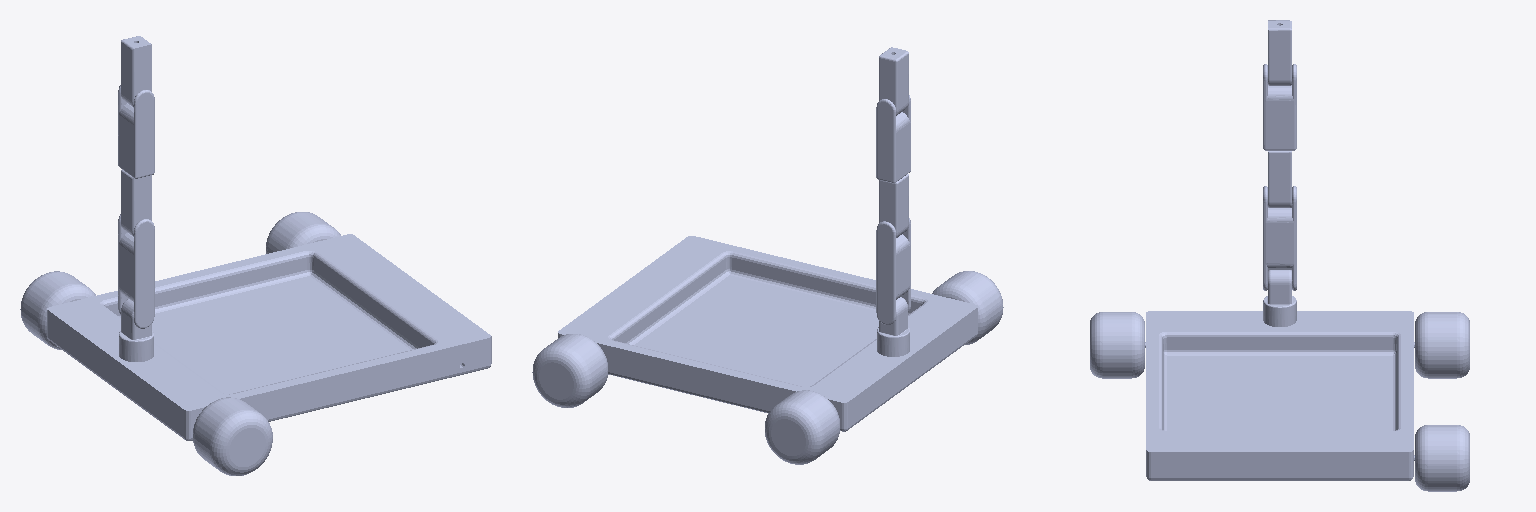
The robot description file, URDF, robot "Car_1":
<?xml version="1.0" encoding="utf-8"?>
<!-- This URDF was automatically created by SolidWorks to URDF Exporter! Originally created by [author] ([email redacted]) 
     Commit Version: 1.6.0-1-g15f4949  Build Version: 1.6.7594.29634
     For more information, please see http://wiki.ros.org/sw_urdf_exporter -->
<robot
  name="Car_1">
  <link name="Dummy"/>
  <link
    name="Chassis">
    <inertial>
      <origin
        xyz="9.85359198453595E-05 -0.016463414418635 -1.61805565512309E-16"
        rpy="0 0 0" />
      <mass
        value="161.904412309527" />
      <inertia
        ixx="22.6226623674723"
        ixy="-0.00106031744847904"
        ixz="1.94916551280363E-15"
        iyy="63.2906242505968"
        iyz="1.17745429693053E-15"
        izz="41.2716349546351" />
    </inertial>
    <visual>
      <origin
        xyz="0 0 0"
        rpy="0 0 0" />
      <geometry>
        <mesh
          filename="package://Car_1/meshes/Chassis.STL" />
      </geometry>
      <material
        name="">
        <color
          rgba="0.792156862745098 0.819607843137255 0.933333333333333 1" />
      </material>
    </visual>
    <collision>
      <origin
        xyz="0 0 0"
        rpy="0 0 0" />
      <geometry>
        <mesh
          filename="package://Car_1/meshes/Chassis.STL" />
      </geometry>
    </collision>
  </link>
  <joint
    name="Dummy_Chassis_Joint"
    type="fixed">
    <parent
      link="Dummy" />
    <child
      link="Chassis" />
  </joint>
  <link
    name="FL_Wheel">
    <inertial>
      <origin
        xyz="0 0 0.378081044321113"
        rpy="0 0 0" />
      <mass
        value="16.4704899135177" />
      <inertia
        ixx="0.170899521278999"
        ixy="0"
        ixz="-3.38657707334201E-18"
        iyy="0.170899521278999"
        iyz="-5.98392577789642E-19"
        izz="0.173579729077305" />
    </inertial>
    <visual>
      <origin
        xyz="0 0 0"
        rpy="0 0 0" />
      <geometry>
        <mesh
          filename="package://Car_1/meshes/FL_Wheel.STL" />
      </geometry>
      <material
        name="">
        <color
          rgba="0.792156862745098 0.819607843137255 0.933333333333333 1" />
      </material>
    </visual>
    <collision>
      <origin
        xyz="0 0 0"
        rpy="0 0 0" />
      <geometry>
        <mesh
          filename="package://Car_1/meshes/FL_Wheel.STL" />
      </geometry>
    </collision>
  </link>
  <joint
    name="FLW_Chassis"
    type="revolute">
    <origin
      xyz="-0.6 0.35 -0.025"
      rpy="1.5708 0.39309 -3.1416" />
    <parent
      link="Chassis" />
    <child
      link="FL_Wheel" />
    <axis
      xyz="0 0 1" />
    <limit
      lower="-1000000"
      upper="1000000"
      effort="100"
      velocity="1000" />
  </joint>
  <transmission name="FL_Wheel_Trans">
    <type>transmission_interface/SimpleTransmission</type>
    <joint name="FLW_Chassis">
      <hardwareInterface>hardware_interface/VelocityJointInterface</hardwareInterface>
    </joint>
    <actuator name="FLW_Motor">
      <hardwareInterface>hardware_interface/VelocityJointInterface</hardwareInterface>
      <mechanicalReduction>1</mechanicalReduction>
    </actuator>
  </transmission>
  <link
    name="FR_Wheel">
    <inertial>
      <origin
        xyz="0 -3.46944695195361E-18 0.378081044321113"
        rpy="0 0 0" />
      <mass
        value="16.4704899135177" />
      <inertia
        ixx="0.170899521278999"
        ixy="-1.17094433004118E-34"
        ixz="-3.84287660115048E-18"
        iyy="0.170899521278999"
        iyz="-1.03780467368306E-34"
        izz="0.173579729077305" />
    </inertial>
    <visual>
      <origin
        xyz="0 0 0"
        rpy="0 0 0" />
      <geometry>
        <mesh
          filename="package://Car_1/meshes/FR_Wheel.STL" />
      </geometry>
      <material
        name="">
        <color
          rgba="0.792156862745098 0.819607843137255 0.933333333333333 1" />
      </material>
    </visual>
    <collision>
      <origin
        xyz="0 0 0"
        rpy="0 0 0" />
      <geometry>
        <mesh
          filename="package://Car_1/meshes/FR_Wheel.STL" />
      </geometry>
    </collision>
  </link>
  <joint
    name="FRW_Chassis"
    type="revolute">
    <origin
      xyz="-0.6 -0.35 -0.025"
      rpy="1.5708 0 0" />
    <parent
      link="Chassis" />
    <child
      link="FR_Wheel" />
    <axis
      xyz="0 0 1" />
    <limit
      lower="-1000000"
      upper="1000000"
      effort="100"
      velocity="1000" />
  </joint>
  <transmission name="FR_Wheel_Trans">
    <type>transmission_interface/SimpleTransmission</type>
    <joint name="FRW_Chassis">
      <hardwareInterface>hardware_interface/VelocityJointInterface</hardwareInterface>
    </joint>
    <actuator name="FRW_Motor">
      <hardwareInterface>hardware_interface/VelocityJointInterface</hardwareInterface>
      <mechanicalReduction>1</mechanicalReduction>
    </actuator>
  </transmission>
  <link
    name="RL_Wheel">
    <inertial>
      <origin
        xyz="0 0 0.378081044321113"
        rpy="0 0 0" />
      <mass
        value="16.4704899135177" />
      <inertia
        ixx="0.170899521278999"
        ixy="0"
        ixz="-3.38657707334201E-18"
        iyy="0.170899521278999"
        iyz="-5.98392577789642E-19"
        izz="0.173579729077305" />
    </inertial>
    <visual>
      <origin
        xyz="0 0 0"
        rpy="0 0 0" />
      <geometry>
        <mesh
          filename="package://Car_1/meshes/RL_Wheel.STL" />
      </geometry>
      <material
        name="">
        <color
          rgba="0.792156862745098 0.819607843137255 0.933333333333333 1" />
      </material>
    </visual>
    <collision>
      <origin
        xyz="0 0 0"
        rpy="0 0 0" />
      <geometry>
        <mesh
          filename="package://Car_1/meshes/RL_Wheel.STL" />
      </geometry>
    </collision>
  </link>
  <joint
    name="RLW_Chassis"
    type="revolute">
    <origin
      xyz="0.6 0.35 -0.025"
      rpy="1.5708 0.39309 -3.1416" />
    <parent
      link="Chassis" />
    <child
      link="RL_Wheel" />
    <axis
      xyz="0 0 1" />
    <limit
      lower="-1000000"
      upper="1000000"
      effort="100"
      velocity="1000" />
  </joint>
  <transmission name="RL_Wheel_Trans">
    <type>transmission_interface/SimpleTransmission</type>
    <joint name="RLW_Chassis">
      <hardwareInterface>hardware_interface/VelocityJointInterface</hardwareInterface>
    </joint>
    <actuator name="RLW_Motor">
      <hardwareInterface>hardware_interface/VelocityJointInterface</hardwareInterface>
      <mechanicalReduction>1</mechanicalReduction>
    </actuator>
  </transmission>
  <link
    name="RR_Wheel">
    <inertial>
      <origin
        xyz="0 -3.46944695195361E-18 0.378081044321113"
        rpy="0 0 0" />
      <mass
        value="16.4704899135177" />
      <inertia
        ixx="0.170899521278999"
        ixy="-1.17094433004118E-34"
        ixz="-3.84287660115048E-18"
        iyy="0.170899521278999"
        iyz="-1.03780467368306E-34"
        izz="0.173579729077305" />
    </inertial>
    <visual>
      <origin
        xyz="0 0 0"
        rpy="0 0 0" />
      <geometry>
        <mesh
          filename="package://Car_1/meshes/RR_Wheel.STL" />
      </geometry>
      <material
        name="">
        <color
          rgba="0.792156862745098 0.819607843137255 0.933333333333333 1" />
      </material>
    </visual>
    <collision>
      <origin
        xyz="0 0 0"
        rpy="0 0 0" />
      <geometry>
        <mesh
          filename="package://Car_1/meshes/RR_Wheel.STL" />
      </geometry>
    </collision>
  </link>
  <joint
    name="RRW_Chassis"
    type="revolute">
    <origin
      xyz="0.6 -0.35 -0.025"
      rpy="1.5708 0 0" />
    <parent
      link="Chassis" />
    <child
      link="RR_Wheel" />
    <axis
      xyz="0 0 1" />
    <limit
      lower="-1000000"
      upper="1000000"
      effort="100"
      velocity="1000" />
  </joint>
  <transmission name="RR_Wheel_Trans">
    <type>transmission_interface/SimpleTransmission</type>
    <joint name="RRW_Chassis">
      <hardwareInterface>hardware_interface/VelocityJointInterface</hardwareInterface>
    </joint>
    <actuator name="RRW_Motor">
      <hardwareInterface>hardware_interface/VelocityJointInterface</hardwareInterface>
      <mechanicalReduction>1</mechanicalReduction>
    </actuator>
  </transmission>
  <link
    name="Arm_Base">
    <inertial>
      <origin
        xyz="0 0.152976096204713 1.50309365625096E-18"
        rpy="0 0 0" />
      <mass
        value="3.25348441268186" />
      <inertia
        ixx="0.0195880123660322"
        ixy="2.51212011347482E-19"
        ixz="1.81752260093214E-17"
        iyy="0.0075081587745099"
        iyz="4.21274880646901E-19"
        izz="0.0192954745601843" />
    </inertial>
    <visual>
      <origin
        xyz="0 0 0"
        rpy="0 0 0" />
      <geometry>
        <mesh
          filename="package://Car_1/meshes/Arm_Base.STL" />
      </geometry>
      <material
        name="">
        <color
          rgba="0.792156862745098 0.819607843137255 0.933333333333333 1" />
      </material>
    </visual>
    <collision>
      <origin
        xyz="0 0 0"
        rpy="0 0 0" />
      <geometry>
        <mesh
          filename="package://Car_1/meshes/Arm_Base.STL" />
      </geometry>
    </collision>
  </link>
  <joint
    name="AB_Chassis"
    type="revolute">
    <origin
      xyz="-0.65 0 0.025"
      rpy="1.5708 0 0" />
    <parent
      link="Chassis" />
    <child
      link="Arm_Base" />
    <axis
      xyz="0 1 0" />
    <limit
      lower="-2.8973"
      upper="2.8973"
      effort="87"
      velocity="2.1750" />
  </joint>
  <transmission name="Arm_Base_Trans">
    <type>transmission_interface/SimpleTransmission</type>
    <joint name="AB_Chassis">
      <hardwareInterface>hardware_interface/PositionJointInterface</hardwareInterface>
    </joint>
    <actuator name="AB_Motor">
      <hardwareInterface>hardware_interface/PositionJointInterface</hardwareInterface>
      <mechanicalReduction>1</mechanicalReduction>
    </actuator>
  </transmission>
  <link
    name="Bicep">
    <inertial>
      <origin
        xyz="-1.11022302462516E-16 0.205 4.03161623391747E-08"
        rpy="0 0 0" />
      <mass
        value="5.01050096511363" />
      <inertia
        ixx="0.0709872630145202"
        ixy="-6.28898095202147E-08"
        ixz="3.96116733721931E-19"
        iyy="0.0149239034213916"
        iyz="-2.34671088771049E-18"
        izz="0.0636472439734091" />
    </inertial>
    <visual>
      <origin
        xyz="0 0 0"
        rpy="0 0 0" />
      <geometry>
        <mesh
          filename="package://Car_1/meshes/Bicep.STL" />
      </geometry>
      <material
        name="">
        <color
          rgba="0.792156862745098 0.819607843137255 0.933333333333333 1" />
      </material>
    </visual>
    <collision>
      <origin
        xyz="0 0 0"
        rpy="0 0 0" />
      <geometry>
        <mesh
          filename="package://Car_1/meshes/Bicep.STL" />
      </geometry>
    </collision>
  </link>
  <joint
    name="Bicep_AB"
    type="revolute">
    <origin
      xyz="0 0.25 0"
      rpy="0 0 0" />
    <parent
      link="Arm_Base" />
    <child
      link="Bicep" />
    <axis
      xyz="0 0 1" />
    <limit
      lower="-1.7628"
      upper="1.7628"
      effort="87"
      velocity="2.1750" />
  </joint>
  <transmission name="Bicep_Trans">
    <type>transmission_interface/SimpleTransmission</type>
    <joint name="Bicep_AB">
      <hardwareInterface>hardware_interface/PositionJointInterface</hardwareInterface>
    </joint>
    <actuator name="Bicep_Motor">
      <hardwareInterface>hardware_interface/PositionJointInterface</hardwareInterface>
      <mechanicalReduction>1</mechanicalReduction>
    </actuator>
  </transmission>
  <link
    name="Bottom_Wrist">
    <inertial>
      <origin
        xyz="-5.76005539931757E-08 0.104723859303367 6.29756783574483E-05"
        rpy="0 0 0" />
      <mass
        value="3.06244303749571" />
      <inertia
        ixx="0.0242070590575506"
        ixy="3.29905354266355E-08"
        ixz="-1.66452981213341E-09"
        iyy="0.00557103438969488"
        iyz="-5.93643774158451E-06"
        izz="0.0236179659392289" />
    </inertial>
    <visual>
      <origin
        xyz="0 0 0"
        rpy="0 0 0" />
      <geometry>
        <mesh
          filename="package://Car_1/meshes/Bottom_Wrist.STL" />
      </geometry>
      <material
        name="">
        <color
          rgba="0.792156862745098 0.819607843137255 0.933333333333333 1" />
      </material>
    </visual>
    <collision>
      <origin
        xyz="0 0 0"
        rpy="0 0 0" />
      <geometry>
        <mesh
          filename="package://Car_1/meshes/Bottom_Wrist.STL" />
      </geometry>
    </collision>
  </link>
  <joint
    name="BW_Bicep"
    type="revolute">
    <origin
      xyz="0 0.41 0"
      rpy="0 0 0" />
    <parent
      link="Bicep" />
    <child
      link="Bottom_Wrist" />
    <axis
      xyz="0 0 1" />
    <limit
      lower="-1.7628"
      upper="1.7628"
      effort="87"
      velocity="2.1750" />
  </joint>
  <transmission name="Bottom_Wrist_Trans">
    <type>transmission_interface/SimpleTransmission</type>
    <joint name="BW_Bicep">
      <hardwareInterface>hardware_interface/PositionJointInterface</hardwareInterface>
    </joint>
    <actuator name="BW_Motor">
      <hardwareInterface>hardware_interface/PositionJointInterface</hardwareInterface>
      <mechanicalReduction>1</mechanicalReduction>
    </actuator>
  </transmission>
  <link
    name="Elbow">
    <inertial>
      <origin
        xyz="1.0222248303382E-07 0.260839568533626 -6.72505269797146E-10"
        rpy="0 0 0" />
      <mass
        value="4.78140114383765" />
      <inertia
        ixx="0.0576162597068767"
        ixy="-3.90344857447567E-08"
        ixz="1.91474307365374E-09"
        iyy="0.0134139330355465"
        iyz="-9.38952159160228E-12"
        izz="0.0516557926060428" />
    </inertial>
    <visual>
      <origin
        xyz="0 0 0"
        rpy="0 0 0" />
      <geometry>
        <mesh
          filename="package://Car_1/meshes/Elbow.STL" />
      </geometry>
      <material
        name="">
        <color
          rgba="0.792156862745098 0.819607843137255 0.933333333333333 1" />
      </material>
    </visual>
    <collision>
      <origin
        xyz="0 0 0"
        rpy="0 0 0" />
      <geometry>
        <mesh
          filename="package://Car_1/meshes/Elbow.STL" />
      </geometry>
    </collision>
  </link>
  <joint
    name="Elbow_BW"
    type="revolute">
    <origin
      xyz="0 0.15 0"
      rpy="0 0 0" />
    <parent
      link="Bottom_Wrist" />
    <child
      link="Elbow" />
    <axis
      xyz="0 1 0" />
    <limit
      lower="-1.7628"
      upper="1.7628"
      effort="87"
      velocity="2.1750" />
  </joint>
  <transmission name="Elbow_Trans">
    <type>transmission_interface/SimpleTransmission</type>
    <joint name="Elbow_BW">
      <hardwareInterface>hardware_interface/PositionJointInterface</hardwareInterface>
    </joint>
    <actuator name="Elbow_Motor">
      <hardwareInterface>hardware_interface/PositionJointInterface</hardwareInterface>
      <mechanicalReduction>1</mechanicalReduction>
    </actuator>
  </transmission>
  <link
    name="Top_Wrist">
    <inertial>
      <origin
        xyz="-5.76005539931757E-08 0.104723859303367 6.29756783574647E-05"
        rpy="0 0 0" />
      <mass
        value="3.06244303749571" />
      <inertia
        ixx="0.0242070590575507"
        ixy="3.29905354340545E-08"
        ixz="-1.66452981111517E-09"
        iyy="0.00557103438969488"
        iyz="-5.9364377415831E-06"
        izz="0.023617965939229" />
    </inertial>
    <visual>
      <origin
        xyz="0 0 0"
        rpy="0 0 0" />
      <geometry>
        <mesh
          filename="package://Car_1/meshes/Top_Wrist.STL" />
      </geometry>
      <material
        name="">
        <color
          rgba="0.792156862745098 0.819607843137255 0.933333333333333 1" />
      </material>
    </visual>
    <collision>
      <origin
        xyz="0 0 0"
        rpy="0 0 0" />
      <geometry>
        <mesh
          filename="package://Car_1/meshes/Top_Wrist.STL" />
      </geometry>
    </collision>
  </link>
  <joint
    name="TW_Elbow"
    type="revolute">
    <origin
      xyz="0 0.455 0"
      rpy="0 0 0" />
    <parent
      link="Elbow" />
    <child
      link="Top_Wrist" />
    <axis
      xyz="0 0 1" />
    <limit
      lower="-1.7628"
      upper="1.7628"
      effort="87"
      velocity="2.1750" />
  </joint>
  <link name = "End_Effector" />
  <joint name="EE_TW" type="fixed">
    <parent link="Top_Wrist" />
    <child link="End_Effector" />
  </joint>
  <transmission name="Top_Wrist_Trans">
    <type>transmission_interface/SimpleTransmission</type>
    <joint name="TW_Elbow">
      <hardwareInterface>hardware_interface/PositionJointInterface</hardwareInterface>
    </joint>
    <actuator name="TW_Motor">
      <hardwareInterface>hardware_interface/PositionJointInterface</hardwareInterface>
      <mechanicalReduction>1</mechanicalReduction>
    </actuator>
  </transmission>
</robot>

--- Facts derived from the render (not from the file) ---
Views: 3 orthographic renders of the robot side by side, from view 1: azimuth 30°, elevation 25°; view 2: azimuth 150°, elevation 25°; view 3: azimuth 270°, elevation 25°.
Robot: Car_1 — 12 links, 11 joints (9 revolute, 2 fixed); root link Dummy; default pose: all joints at 0.
Links seen in each view (by area): view 1: Chassis, FR_Wheel, Bicep, Elbow, FL_Wheel, RL_Wheel, Top_Wrist, Bottom_Wrist, Arm_Base; view 2: Chassis, RL_Wheel, FL_Wheel, Bicep, Elbow, FR_Wheel, Top_Wrist, Bottom_Wrist, Arm_Base; view 3: Chassis, FR_Wheel, FL_Wheel, RL_Wheel, Bicep, Elbow, Arm_Base, Top_Wrist, Bottom_Wrist.
Boxes of the visible links, x1=… form: Chassis: x1=47, y1=234, x2=491, y2=440; FR_Wheel: x1=193, y1=397, x2=272, y2=475; Bicep: x1=118, y1=214, x2=154, y2=328; Elbow: x1=118, y1=85, x2=154, y2=178; FL_Wheel: x1=20, y1=271, x2=95, y2=349; RL_Wheel: x1=266, y1=212, x2=340, y2=253; Top_Wrist: x1=121, y1=36, x2=151, y2=107; Bottom_Wrist: x1=121, y1=170, x2=151, y2=236; Arm_Base: x1=119, y1=299, x2=153, y2=361; Chassis: x1=558, y1=236, x2=977, y2=431; RL_Wheel: x1=532, y1=334, x2=607, y2=407; FL_Wheel: x1=765, y1=390, x2=839, y2=464; Bicep: x1=876, y1=218, x2=910, y2=324; Elbow: x1=876, y1=95, x2=910, y2=182; FR_Wheel: x1=932, y1=271, x2=1003, y2=344; Top_Wrist: x1=879, y1=47, x2=908, y2=115; Bottom_Wrist: x1=879, y1=174, x2=908, y2=237; Arm_Base: x1=877, y1=297, x2=909, y2=356; Chassis: x1=1146, y1=311, x2=1413, y2=480; FR_Wheel: x1=1090, y1=312, x2=1145, y2=378; FL_Wheel: x1=1414, y1=312, x2=1469, y2=378; RL_Wheel: x1=1414, y1=425, x2=1469, y2=491; Bicep: x1=1263, y1=186, x2=1296, y2=290; Elbow: x1=1263, y1=64, x2=1296, y2=150; Arm_Base: x1=1263, y1=270, x2=1296, y2=326; Top_Wrist: x1=1268, y1=20, x2=1291, y2=85; Bottom_Wrist: x1=1268, y1=151, x2=1291, y2=207.
Bounding box of the posed robot: 1.5 × 1.71 × 1.72 m (x, y, z).
Meshes: 10 distinct files referenced, 9 mesh visuals loaded (9 binary STL); not drawn: 1 (reference not matched to a file when rendering).